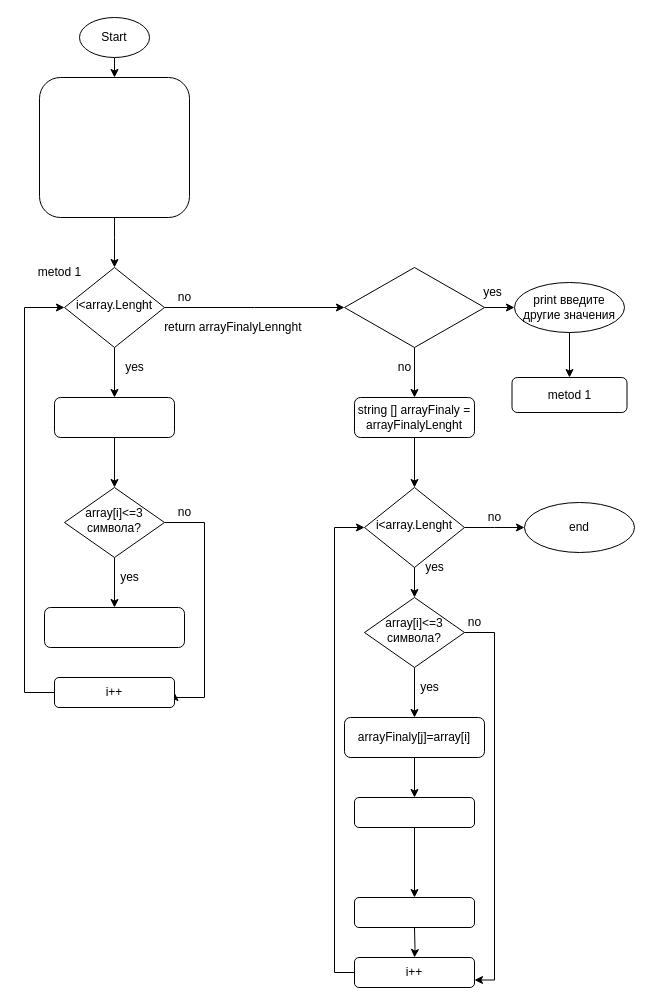
Some shapes in this 652 by 1006 pixel diagram are drawn without their labels. The centre of each missing label's shape, as x and y in pixels:
"array[i] = Введите любое значение" goes at [114,417].
"arrayFinalyLenght ++" goes at [114,627].
"arrayFinalyLenght = 0?" goes at [414,307].
"j++" goes at [414,912].
"print arrayFinaly[j]" goes at [414,812].
"string [] array = 5 int i = 0 int arrayFinalyLenght =0 int j =0" goes at [114,147].
